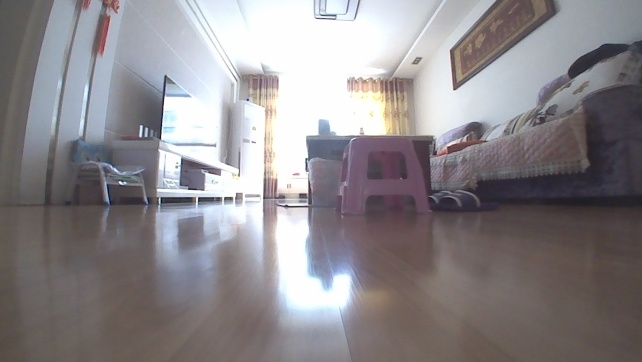TV_stand: (108, 137, 238, 205)
slipper: (424, 188, 501, 213)
sofa1: (428, 39, 641, 202)
tea_table: (303, 132, 435, 209)
